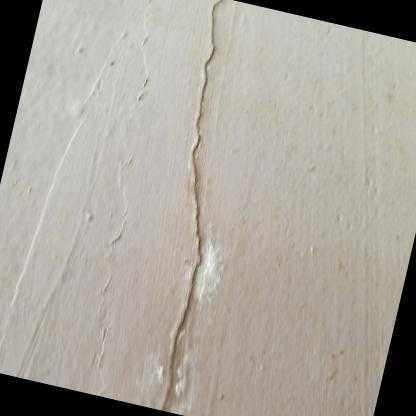crack: (161, 0, 222, 411)
